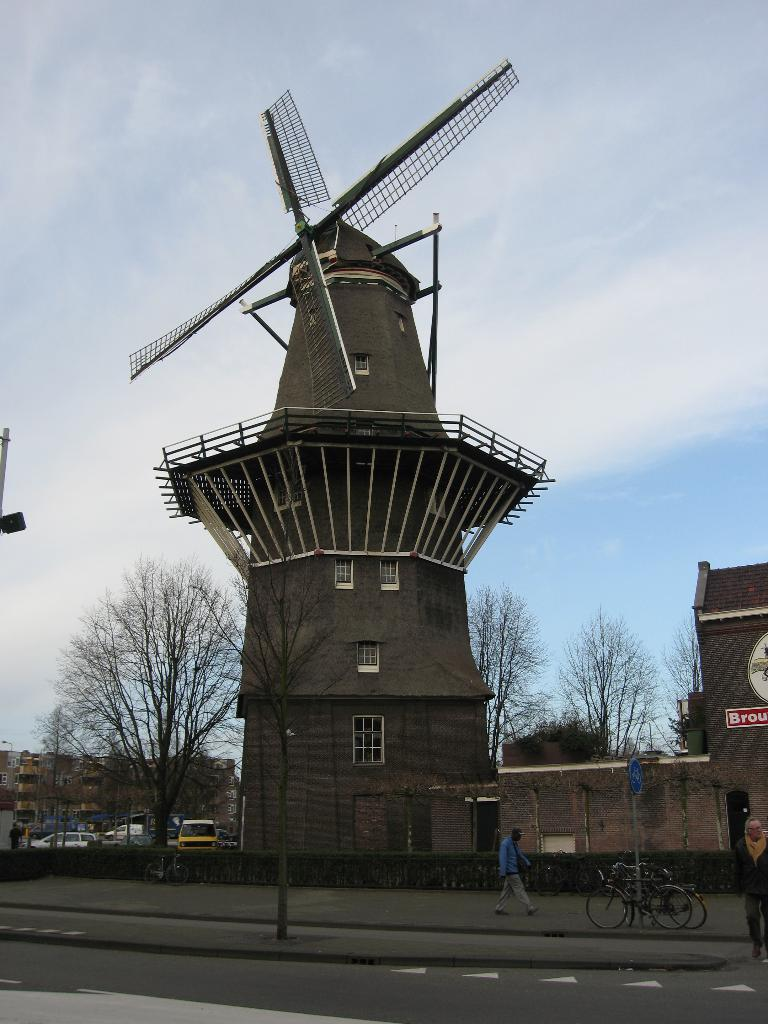Tree: (48, 564, 234, 872), (552, 604, 650, 757), (475, 587, 542, 753), (20, 702, 80, 844), (660, 624, 699, 746)
